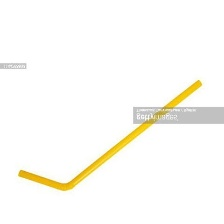drinking_straw: (13, 75, 205, 196)
